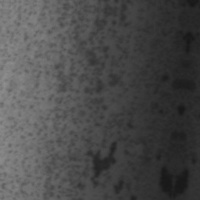pitted_surface: (0, 3, 165, 199)
